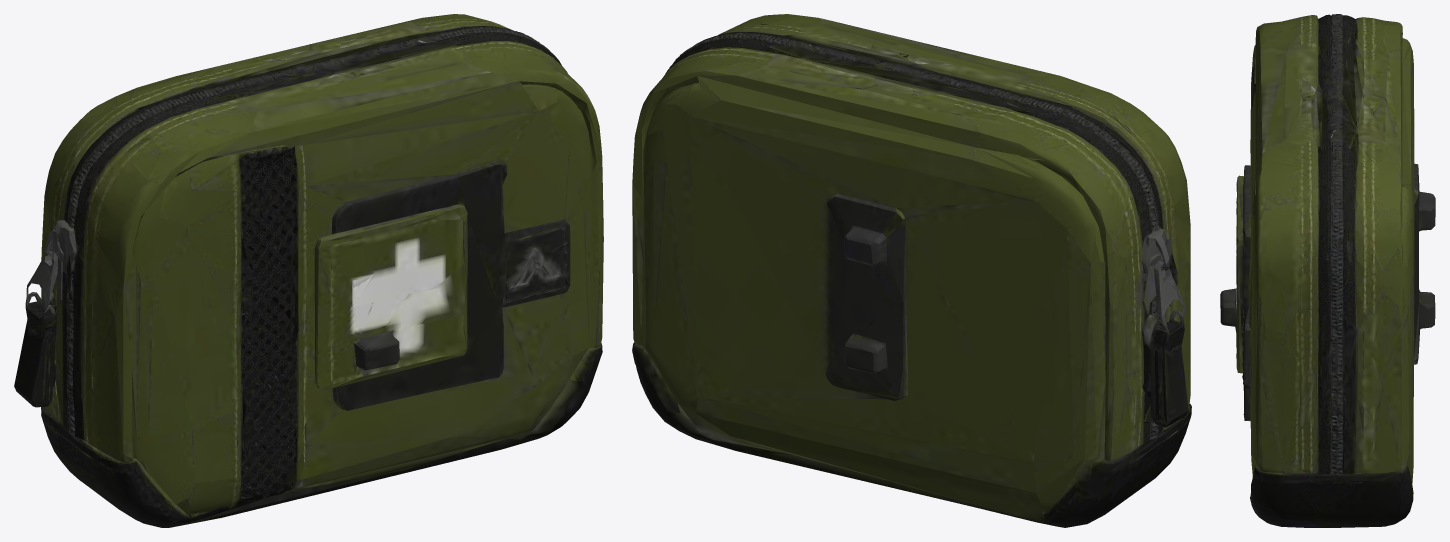
File: lkdv-m15.glb
The picture shows the model from 3 angles, left to right: view 1: azimuth 30°, elevation 25°; view 2: azimuth 150°, elevation 25°; view 3: azimuth 270°, elevation 25°; orthographic projection. The views are drawn at different scales.
Bounding box in the file's own units: 0.1552 × 0.11 × 0.0598.
Materials: 1 (1 with a texture image).
